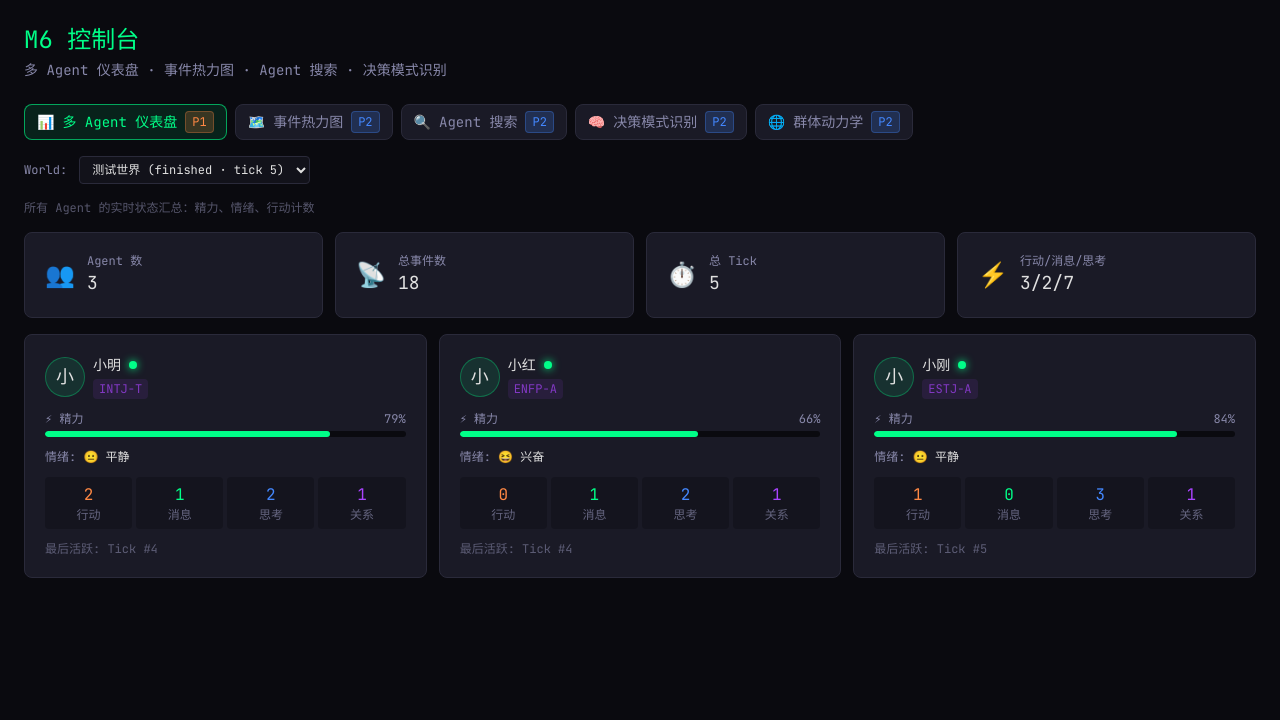
Test: Step 24 ControlPanel — Tab 栏与切换 › switches to search tab on click
Click the button "🔍 Agent 搜索 P2": (484, 122) [401,104,567,140]
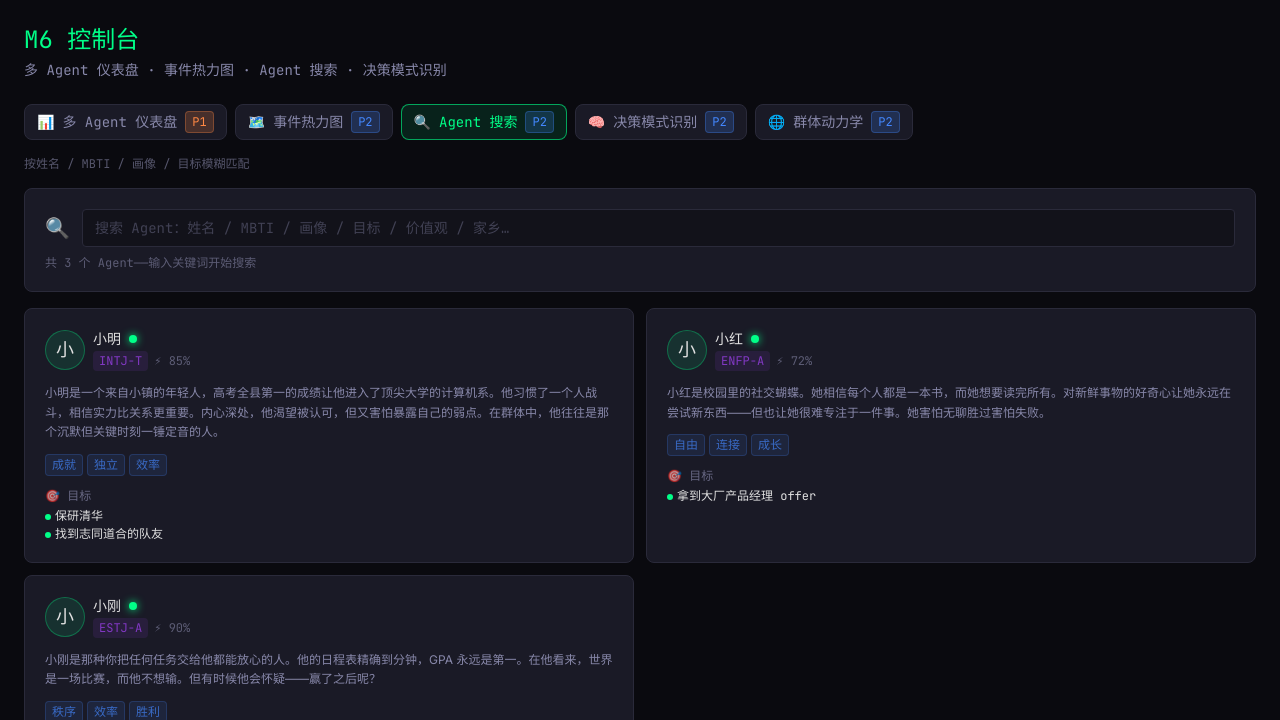
Expected: the field with placeholder "搜索 Agent：姓名 / MBTI / 画像 / 目标 / 价值观 / 家乡…" is shown, [82,209,1235,247]
